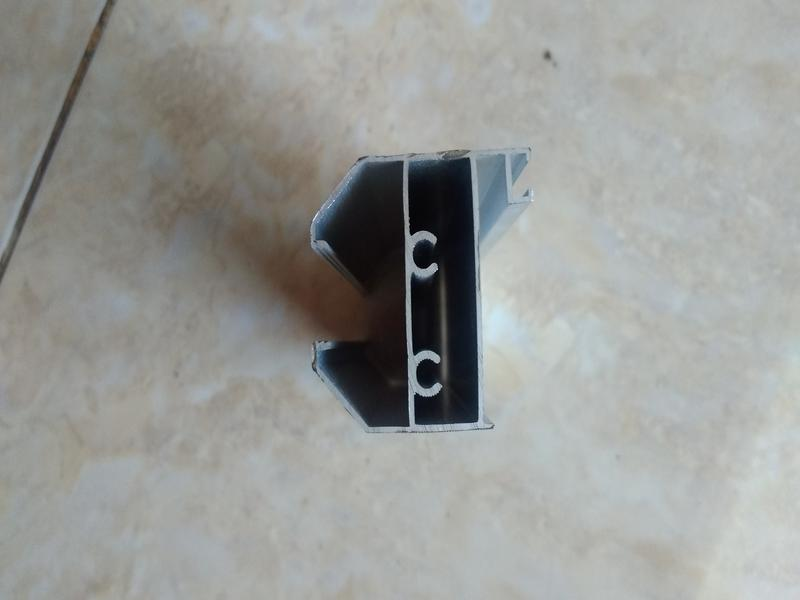Aluminium_3: (270, 129, 567, 453)
